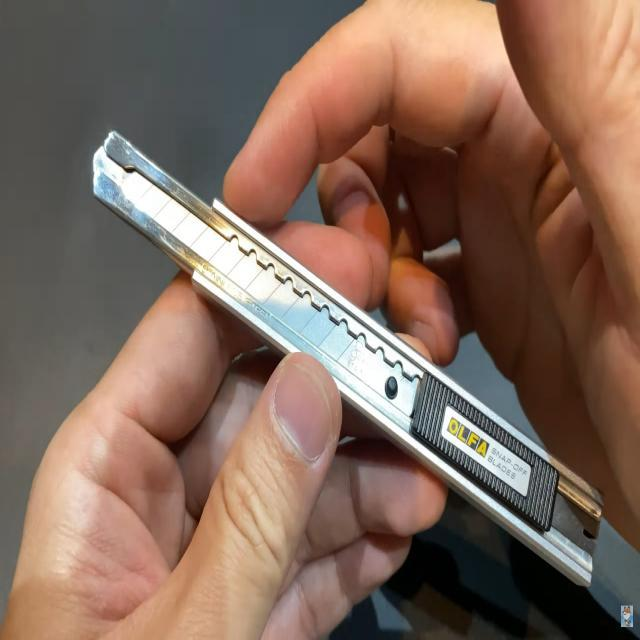cutter: (81, 83, 634, 602)
